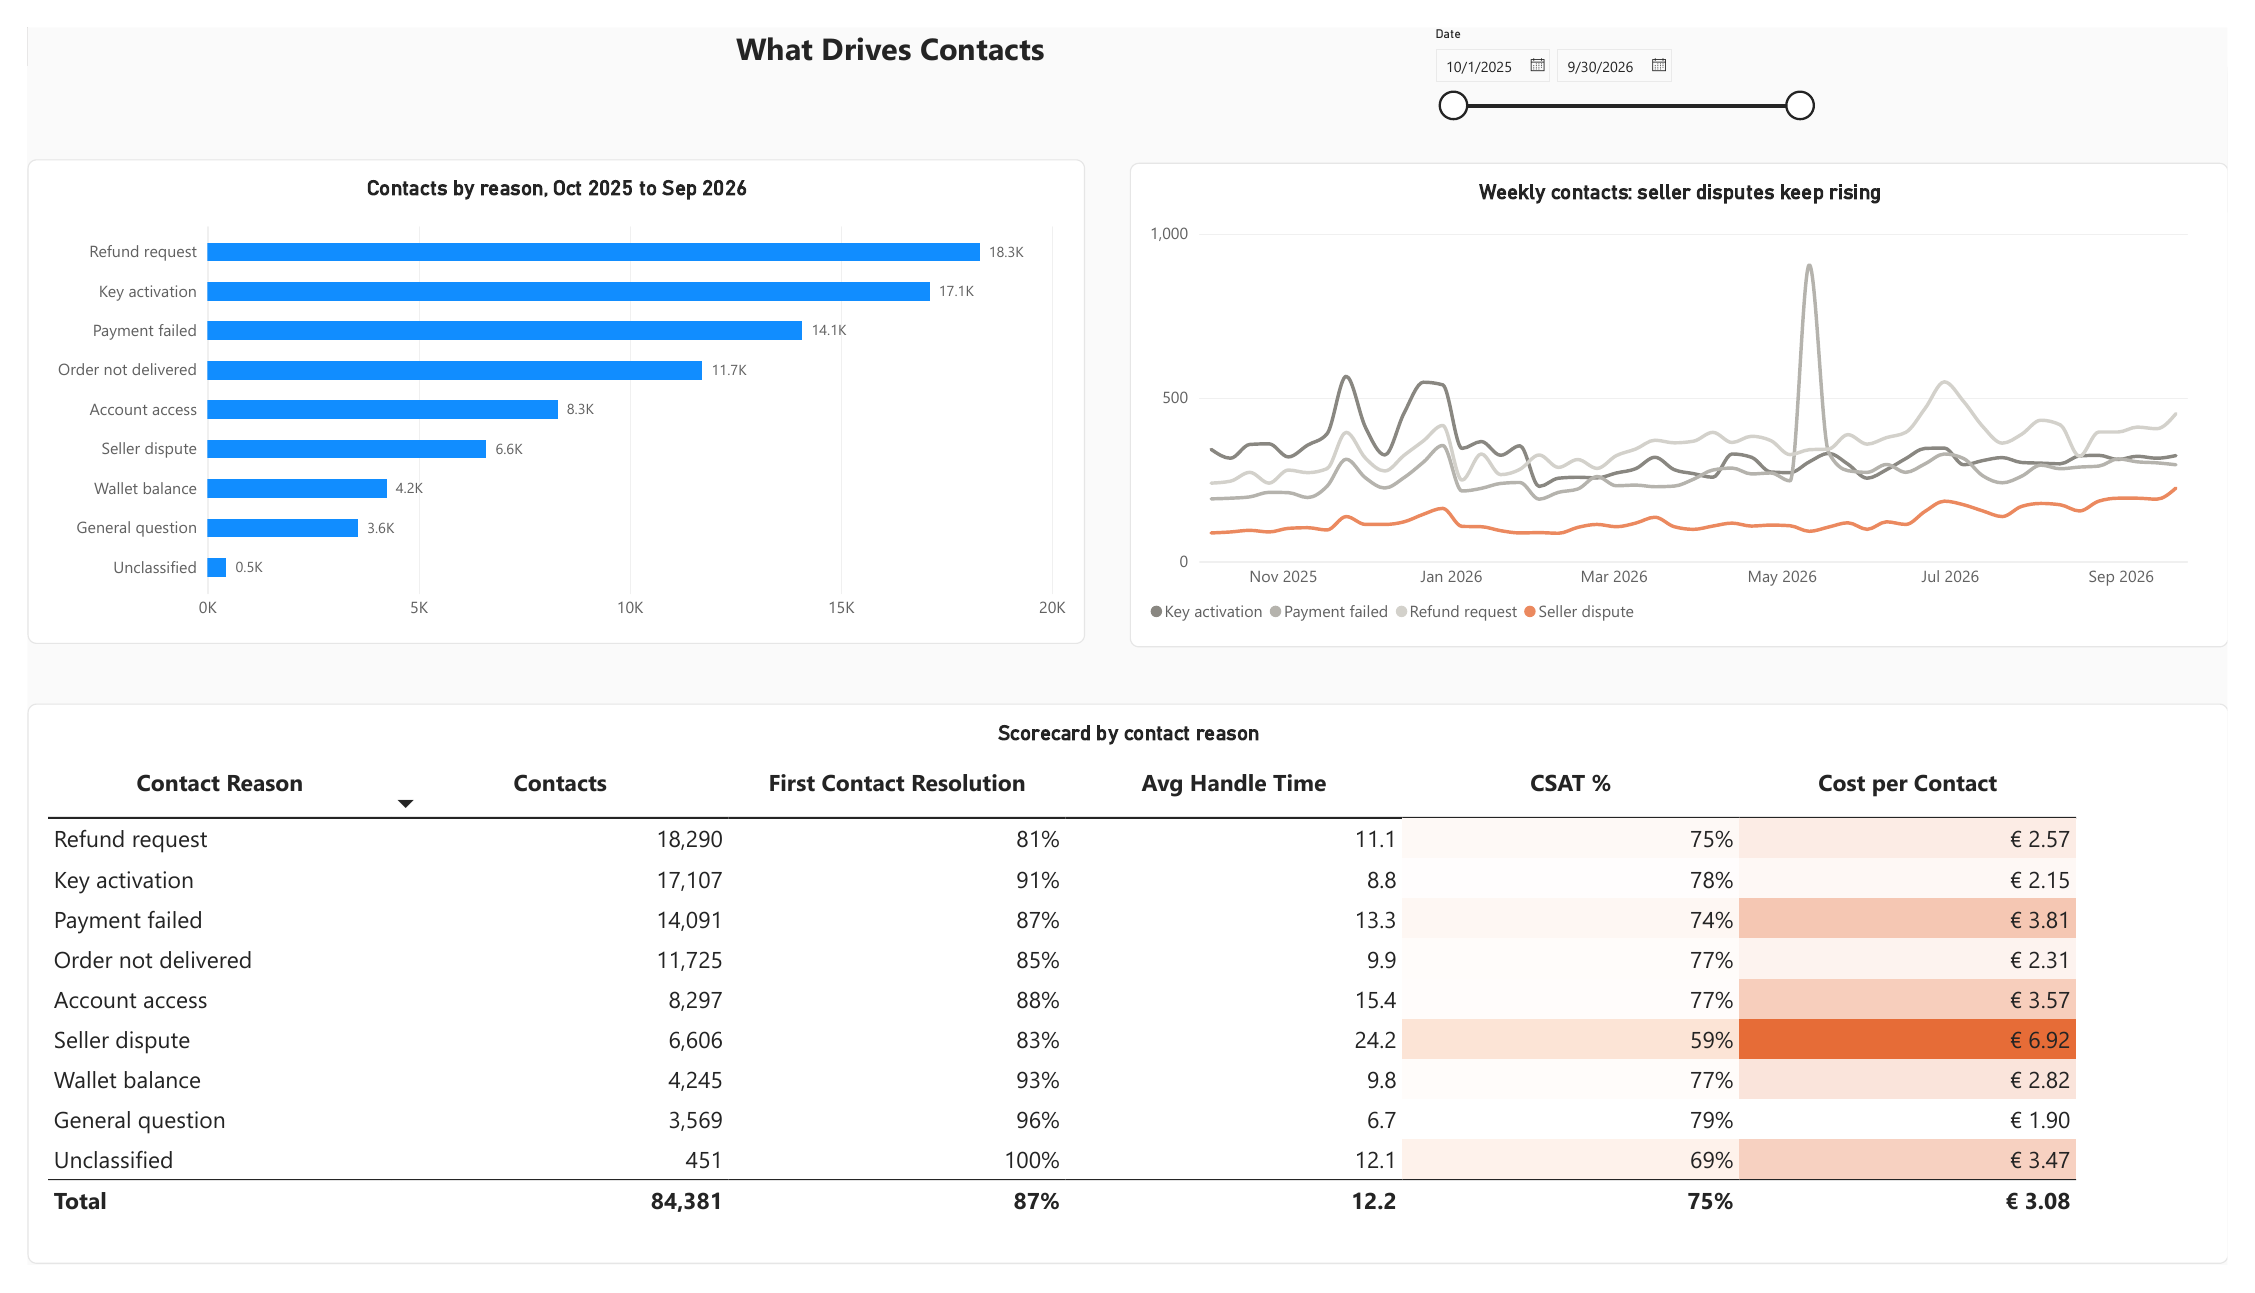

What the dashboard file says about the page in this screenshot:
{"tool":"powerbi","page":{"name":"Drivers","canvas":[1920,1080],"ordinal":1},"visuals":[{"type":"textbox","box":[257.7,0,990.2,74],"z":0},{"type":"slicer","fields":{"Values":["Dates.Date"]},"box":[1221.1,0,342.1,115.8],"z":1000},{"type":"clusteredBarChart","title":"Contacts by reason, Oct 2025 to Sep 2026","fields":{"Category":["Contacts.contact_reason"],"Y":["_measures (2).Contacts"]},"box":[0,115.4,923.1,423.1],"z":2000},{"type":"lineChart","title":"Weekly contacts: seller disputes keep rising","fields":{"Category":["Dates.Week Start"],"Series":["Contacts.contact_reason"],"Y":["_measures (2).Contacts"]},"box":[961.5,117.9,959,423.1],"z":3000},{"type":"tableEx","title":"Scorecard by contact reason","fields":{"Values":["Contacts.contact_reason","_measures (2).Contacts","_measures (2).First Contact Resolution","_measures (2).Avg Handle Time","_measures (2).CSAT %","_measures (2).Cost per Contact"]},"box":[0,589.7,1920.5,489.7],"z":4000}]}

Visuals, with their boxes in screenshot pixels (x1, y1, x2, y2), scaled from the page's 1920x1080 canvas onto the 2255x1293 screenshot:
textbox: l=303, t=0, r=1466, b=89
slicer - Dates.Date: l=1434, t=0, r=1836, b=139
"Contacts by reason, Oct 2025 to Sep 2026" clusteredBarChart: l=0, t=138, r=1084, b=645
"Weekly contacts: seller disputes keep rising" lineChart: l=1129, t=141, r=2254, b=648
"Scorecard by contact reason" tableEx: l=0, t=706, r=2254, b=1292
